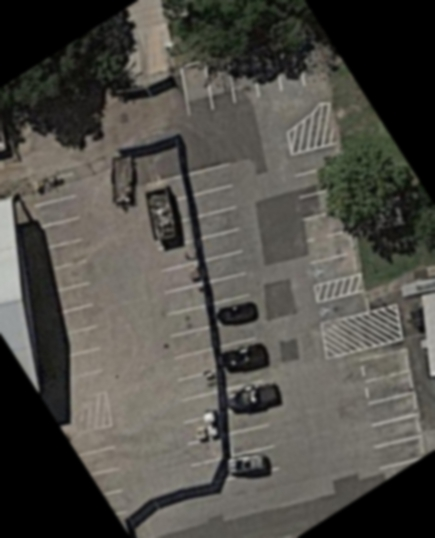parkingspot: (185, 160, 281, 481), (25, 170, 107, 384), (156, 236, 220, 425), (287, 141, 360, 286), (178, 39, 307, 118), (353, 343, 428, 474), (66, 423, 130, 517), (313, 289, 370, 327), (182, 433, 227, 469)
